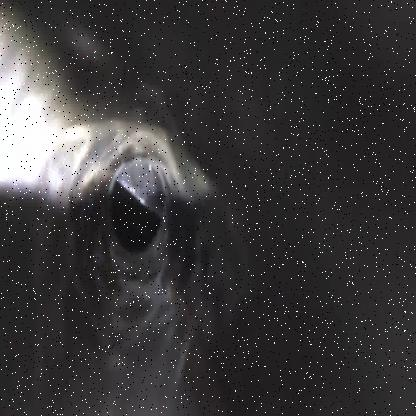Crack: (72, 119, 216, 352)
